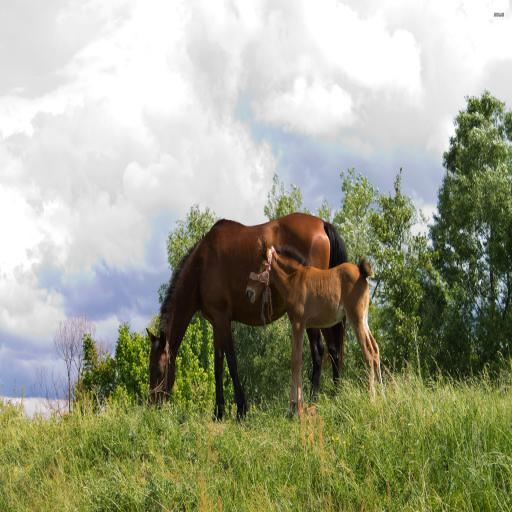horse: (144, 214, 351, 422), (244, 236, 388, 416)
